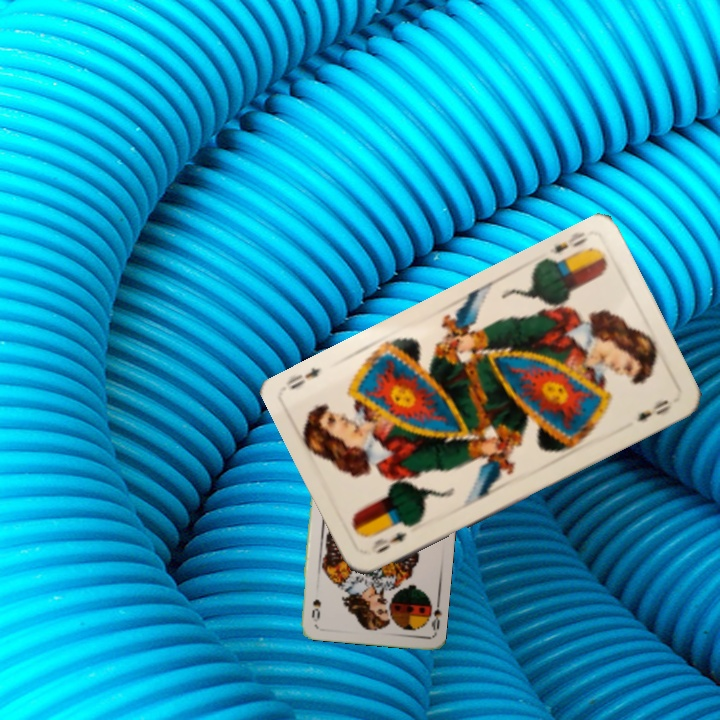EO: (545, 227, 591, 257), (367, 528, 409, 557)
SO: (423, 594, 444, 635)
